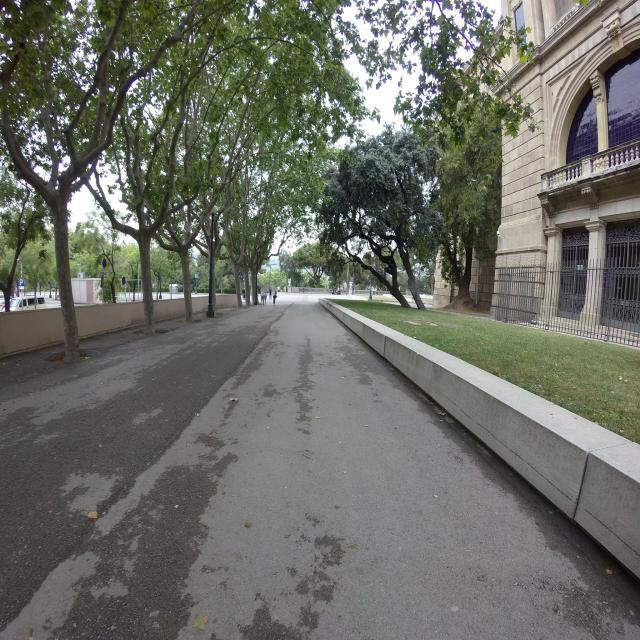forb_stopping: (102, 259, 106, 269)
